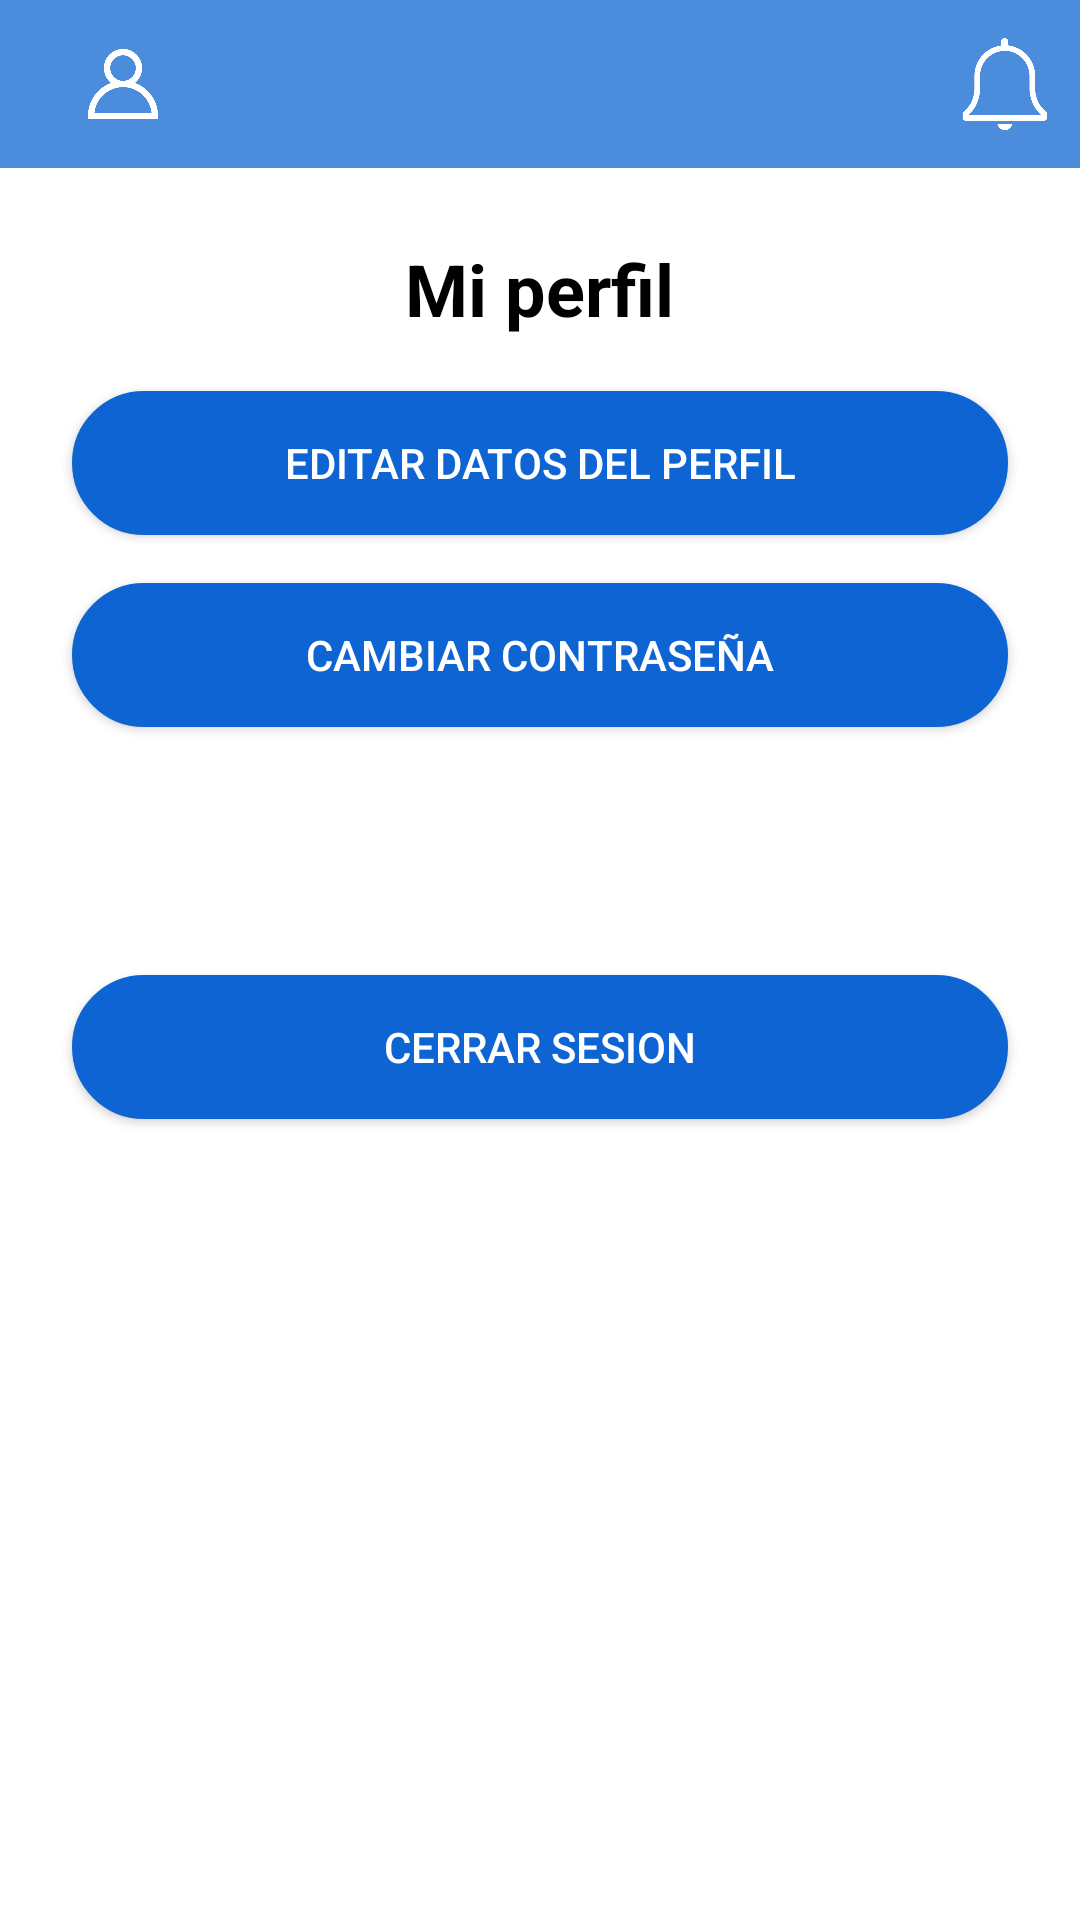

Screen size 1080*1920. Icon name, then its box in pixels as rect(x1, y1, x2, y2):
Notification Icon: rect(963, 38, 1047, 130)
User Icon: rect(88, 49, 158, 119)
